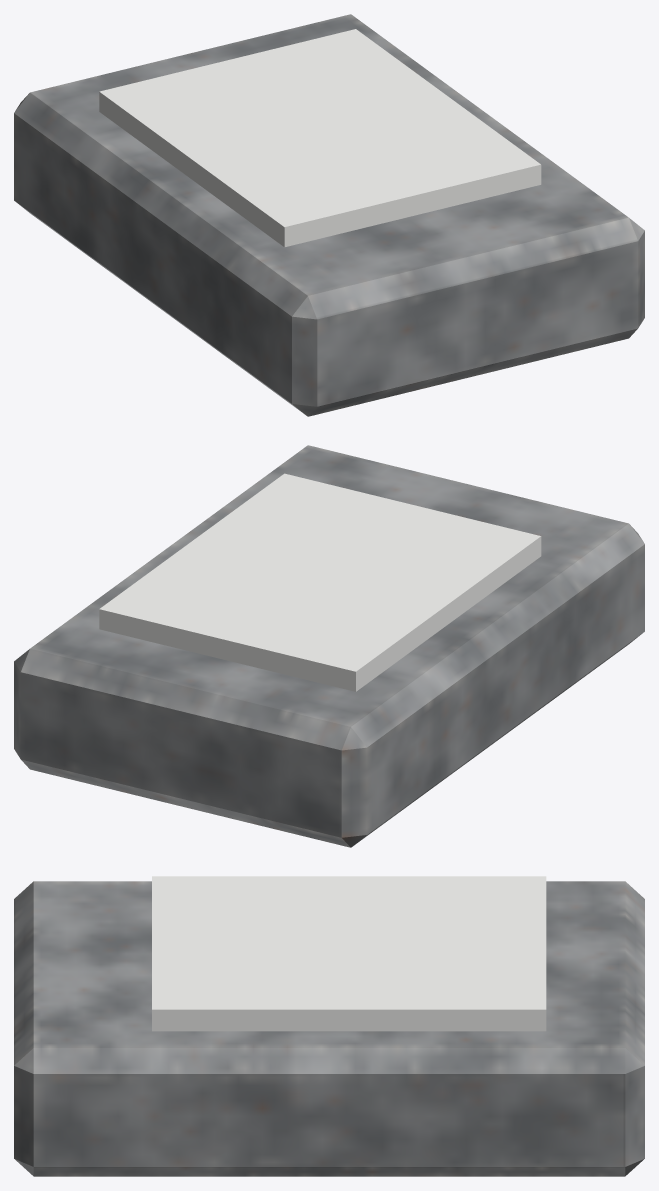
File: chassis.glb
3 renders of one model, top to bottom at view 1: azimuth 30°, elevation 25°; view 2: azimuth 150°, elevation 25°; view 3: azimuth 270°, elevation 25°, orthographic. The views are drawn at different scales.
Visible parts, largest first — view 1: chassis, deck; view 2: chassis, deck; view 3: chassis, deck.
Part boxes in pixels (x1,y1,x2,y2): chassis: [14, 14, 644, 416]; deck: [99, 29, 541, 247]; chassis: [14, 445, 644, 847]; deck: [99, 473, 541, 691]; chassis: [14, 881, 644, 1176]; deck: [152, 876, 546, 1031].
Bounding box in the file's own units: 1.1 × 0.42 × 1.6.
Materials: 2 (1 with a texture image).
